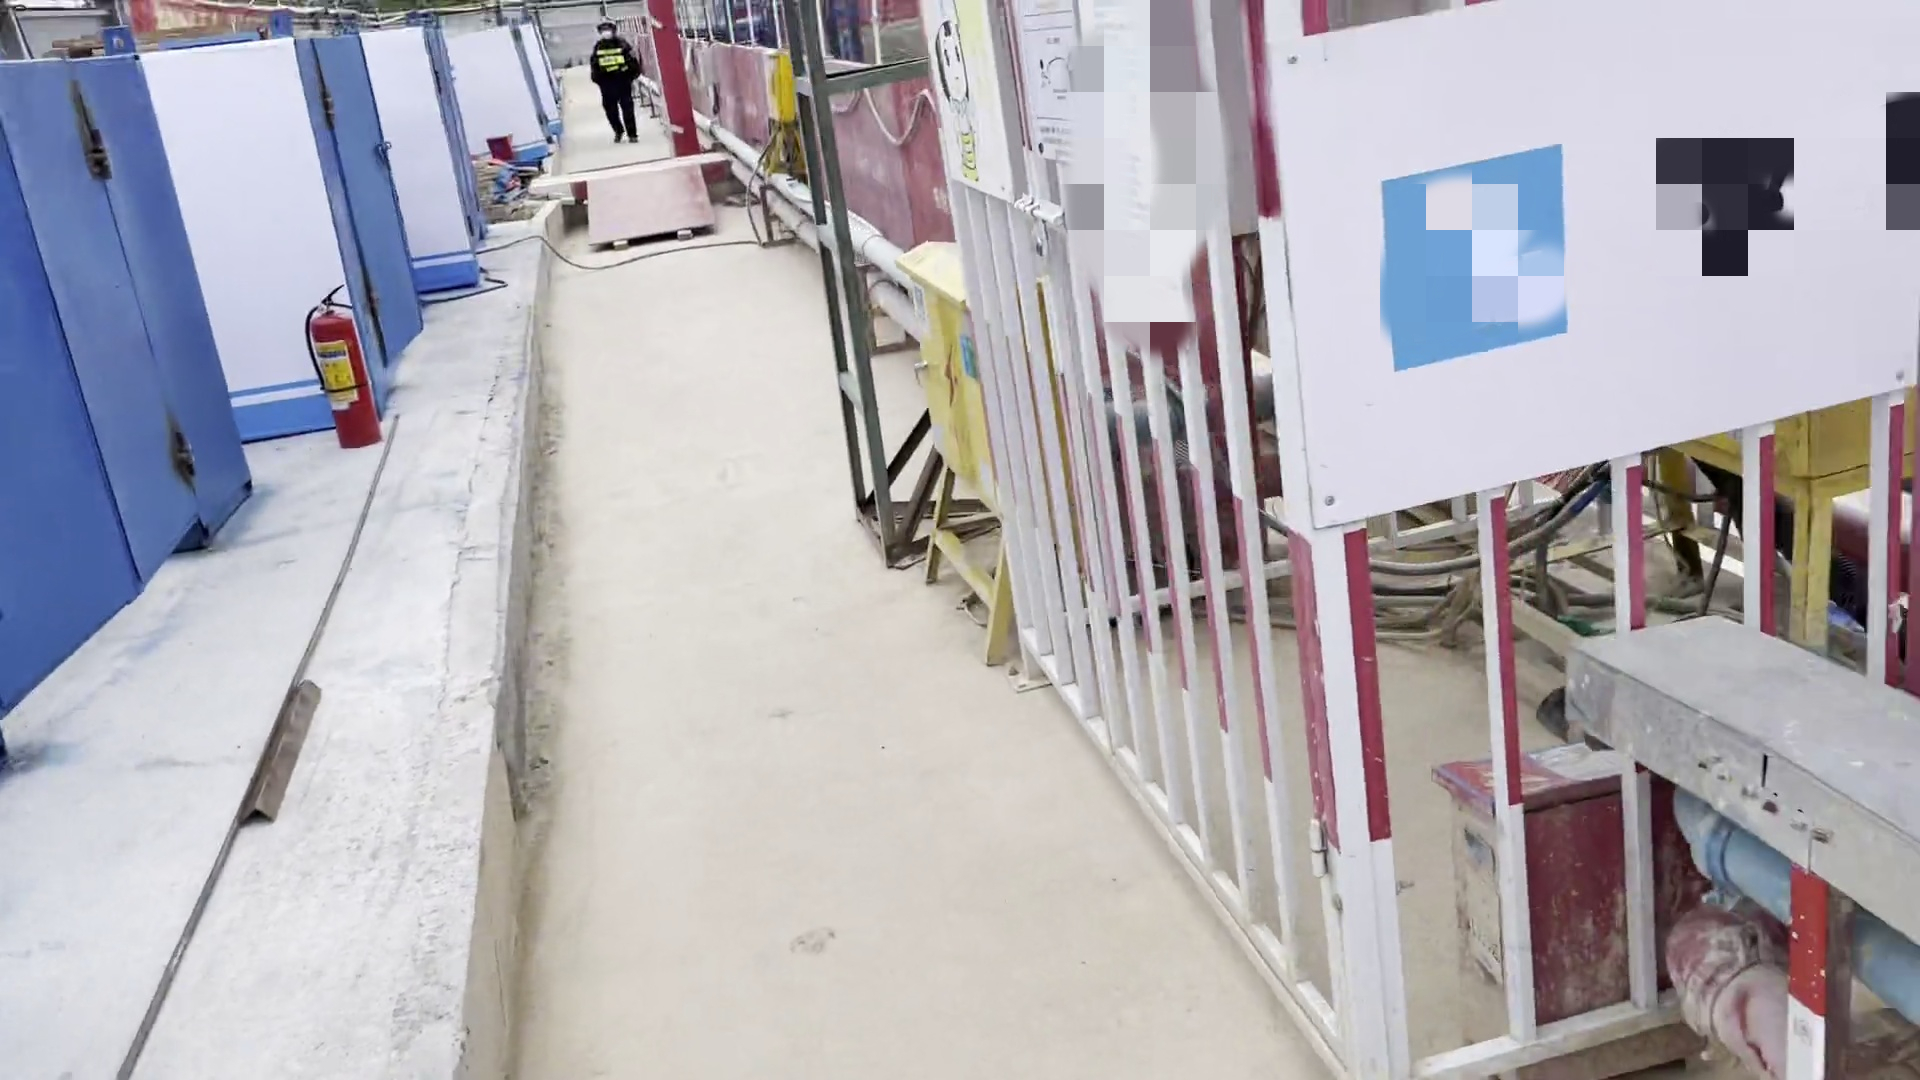board: (573, 161, 731, 251)
ebox: (876, 223, 1102, 687), (756, 47, 800, 128)
fence: (665, 43, 980, 265)
helmet: (591, 15, 618, 28)
person: (575, 12, 650, 146)
slogan: (1252, 4, 1920, 531), (913, 5, 1256, 241), (127, 1, 338, 41), (302, 326, 375, 418)
vest: (588, 40, 636, 84)
